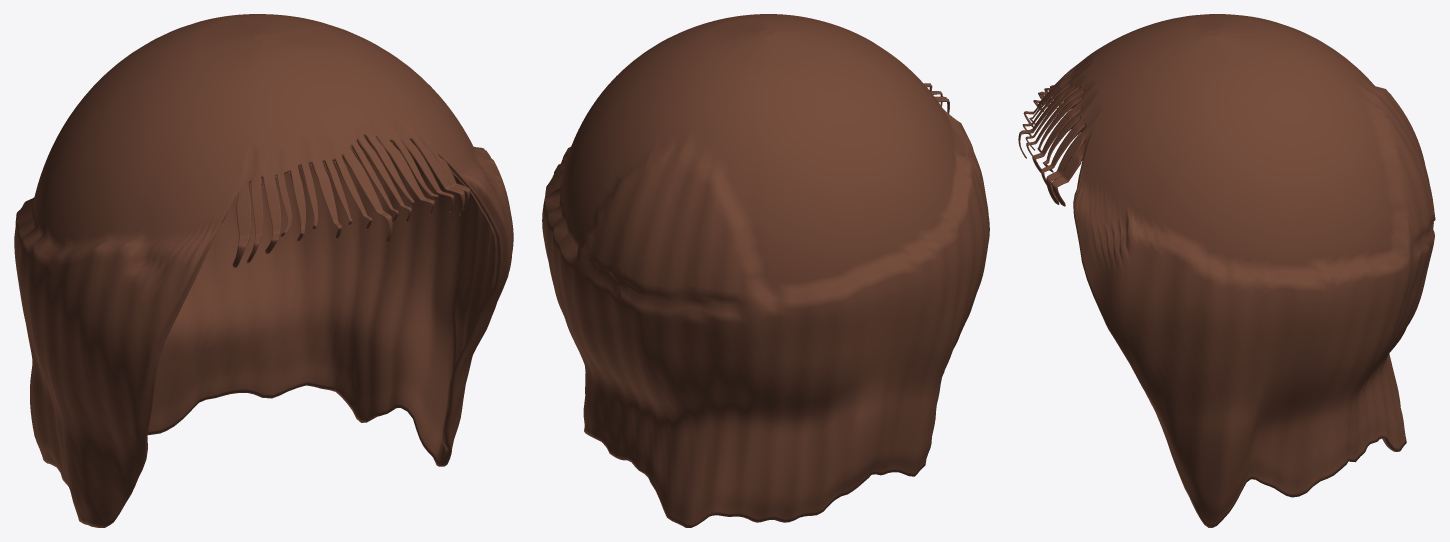
Rendered from side-sweep-cap.glb.
3 views of the same model, side by side, from view 1: azimuth 30°, elevation 25°; view 2: azimuth 150°, elevation 25°; view 3: azimuth 270°, elevation 25° (orthographic). The views are drawn at different scales.
Visible parts, largest first — view 1: Wispy bangs / continuous crown; view 2: Wispy bangs / continuous crown; view 3: Wispy bangs / continuous crown.
Part boxes in pixels (x1,y1,x2,y2): Wispy bangs / continuous crown: (14, 14, 513, 527); Wispy bangs / continuous crown: (542, 14, 989, 527); Wispy bangs / continuous crown: (1018, 14, 1435, 527).
Bounding box in the file's own units: 0.8388 × 0.8705 × 0.7862.
